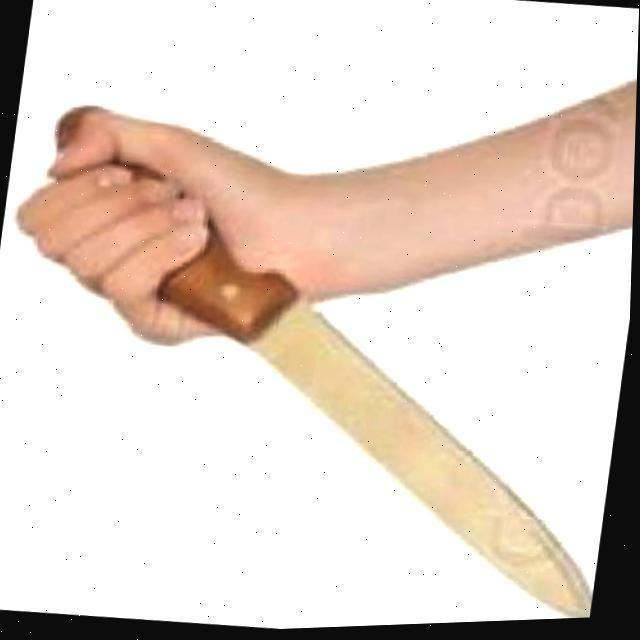knife: (0, 90, 637, 640)
